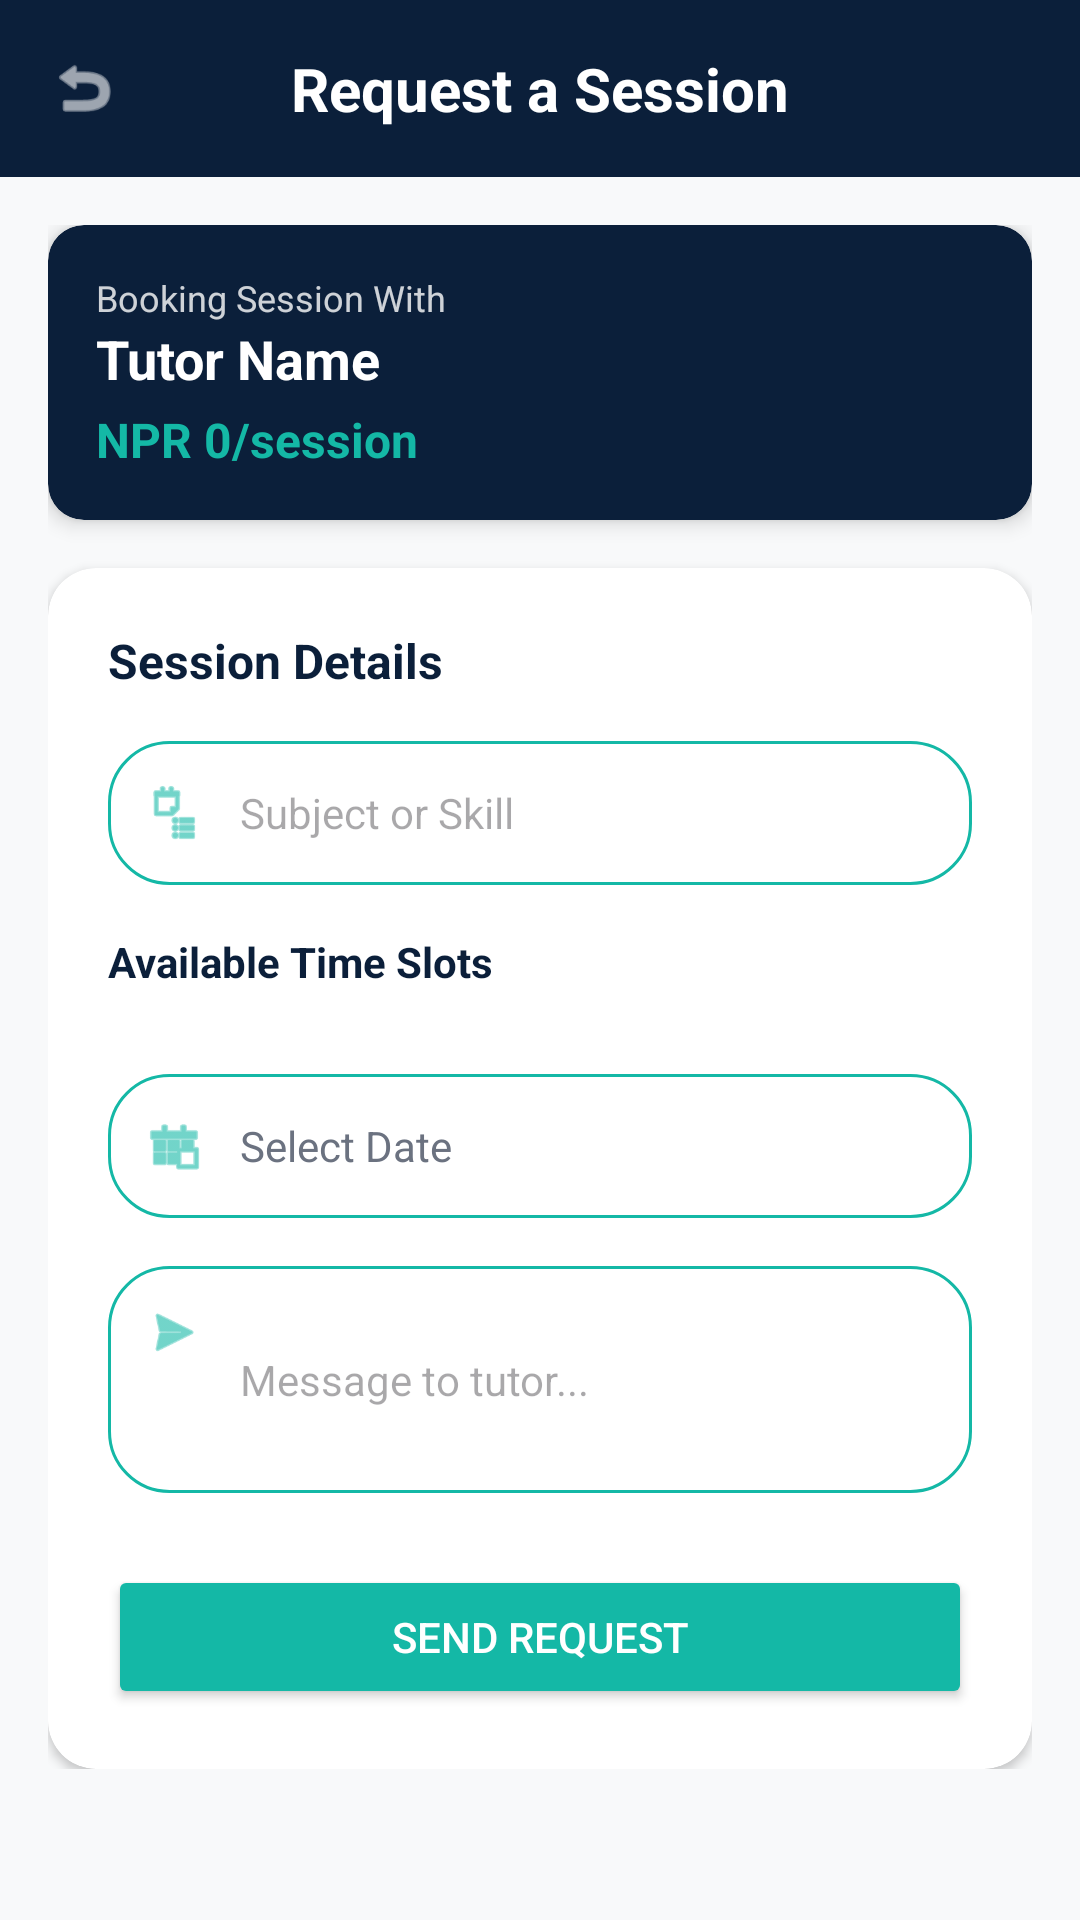

Point at icon controls on the screen. Image size 1080 × 1920, points as [x,y].
agenda: [174,812]
revert: [85,88]
send: [174,1332]
today: [174,1147]
